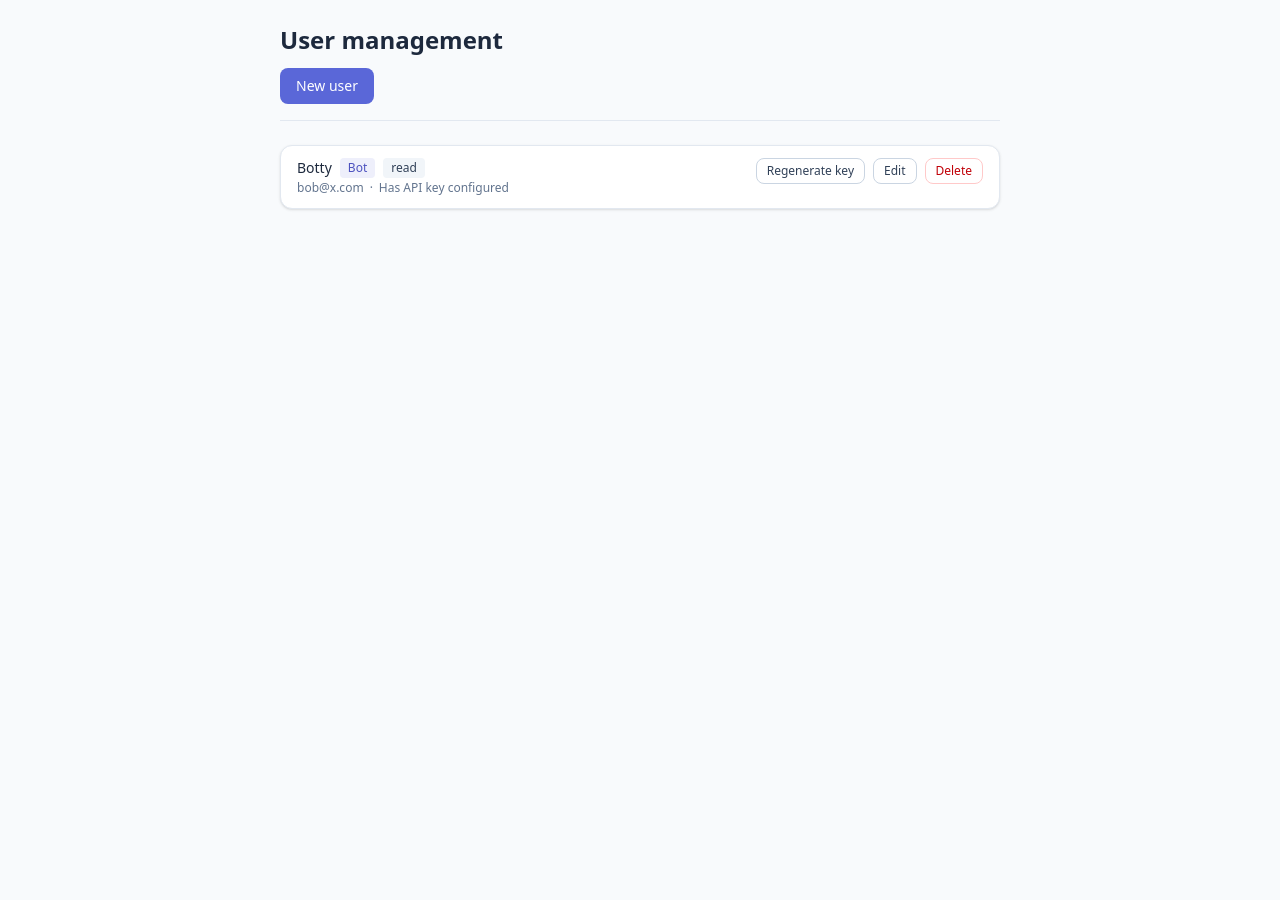
UserManagement API key flow › regenerates a key for a bot and reveals it once
Check: the text "Botty" is shown, box [297,158,332,178]
Click the button "Regenerate key" at (810, 171), box [756,158,865,184]
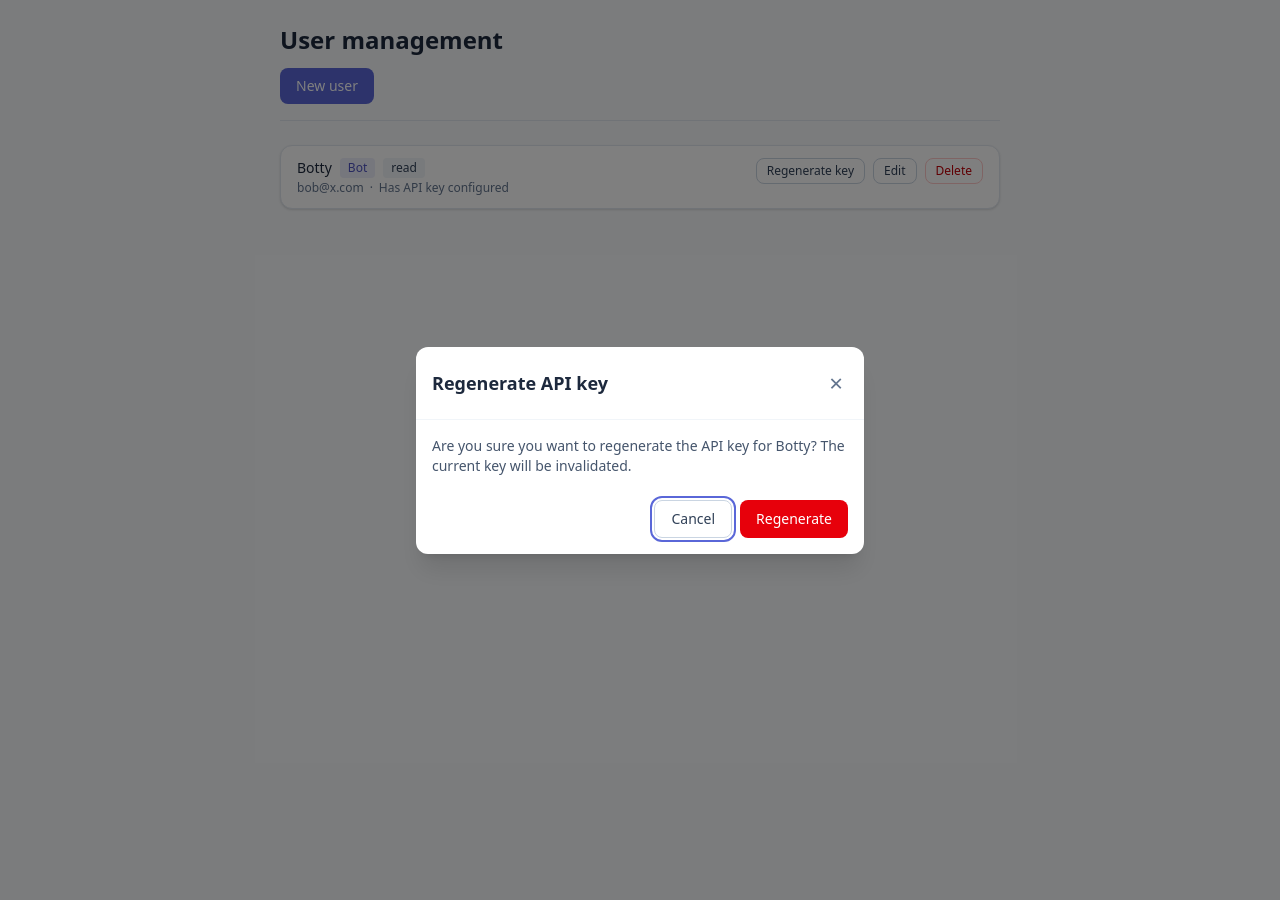
Check: the heading "Regenerate API key" is shown, box [432,368,608,396]
Click the button "Regenerate" at (794, 518), box [740,500,848,538]
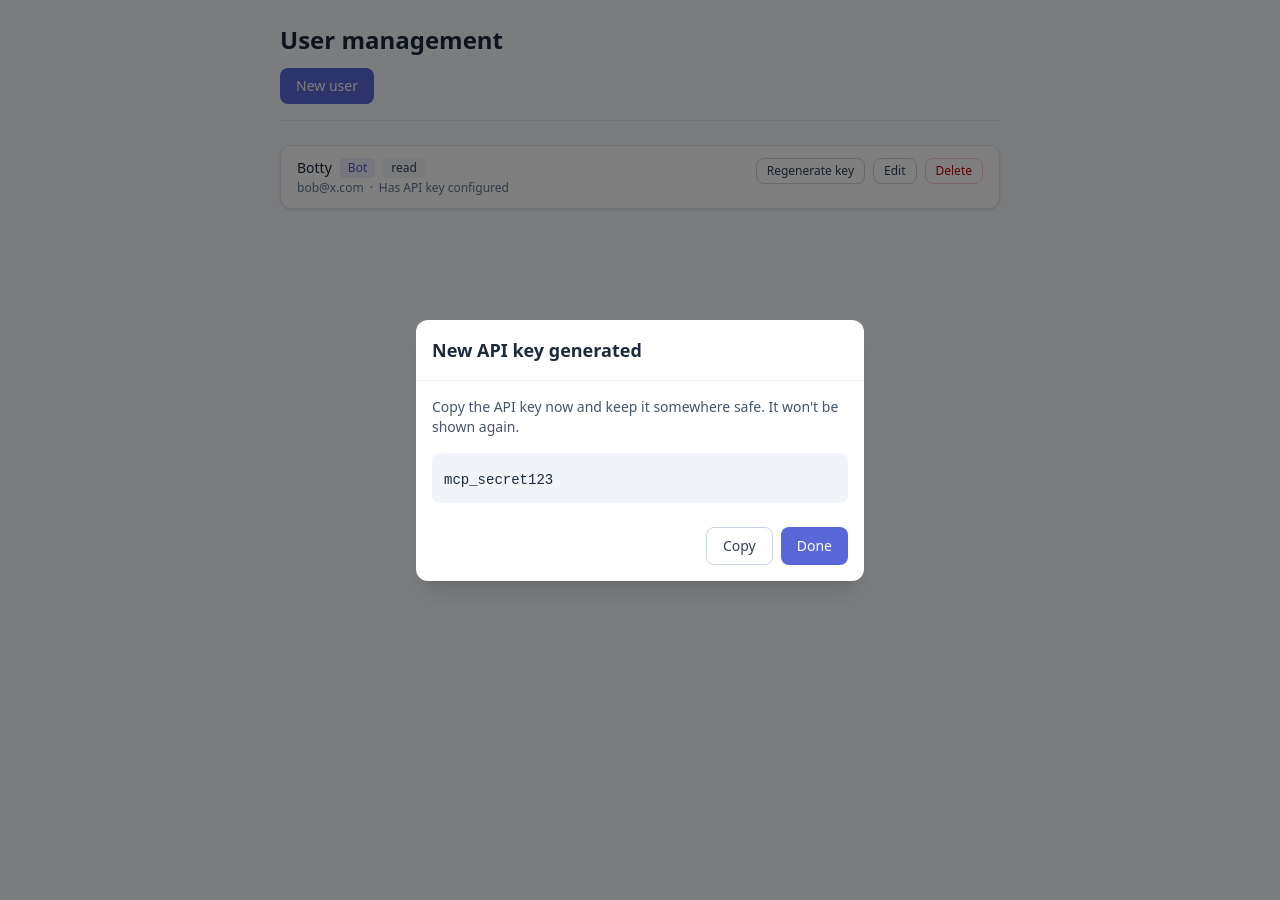
Check: the text "mcp_secret123" is shown, box [444,472,553,488]
Press Escape
Check: the text "mcp_secret123" is shown, box [444,472,553,488]
Click the button "Done" at (814, 546), box [781,526,848,564]
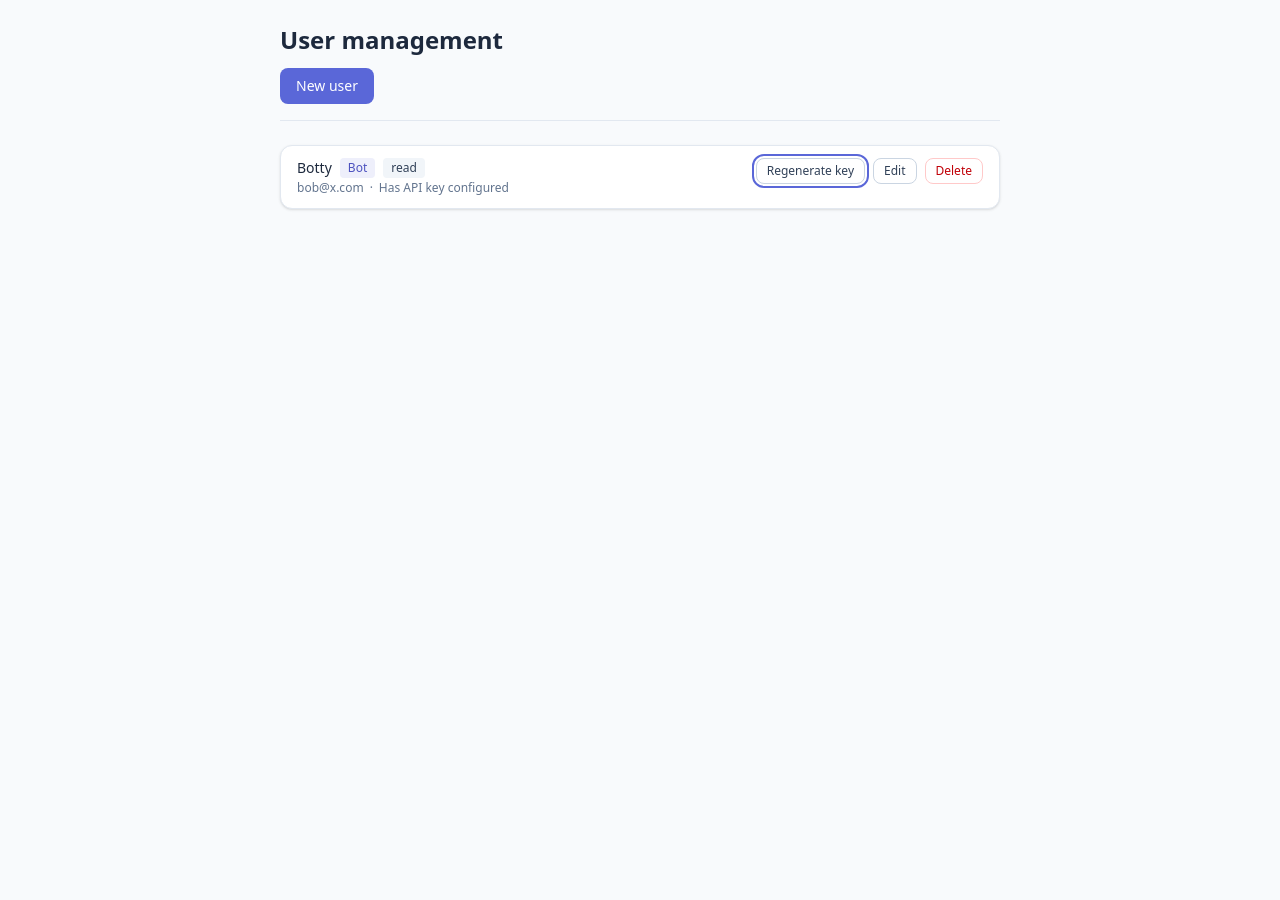
Check: the text "mcp_secret123" is gone
